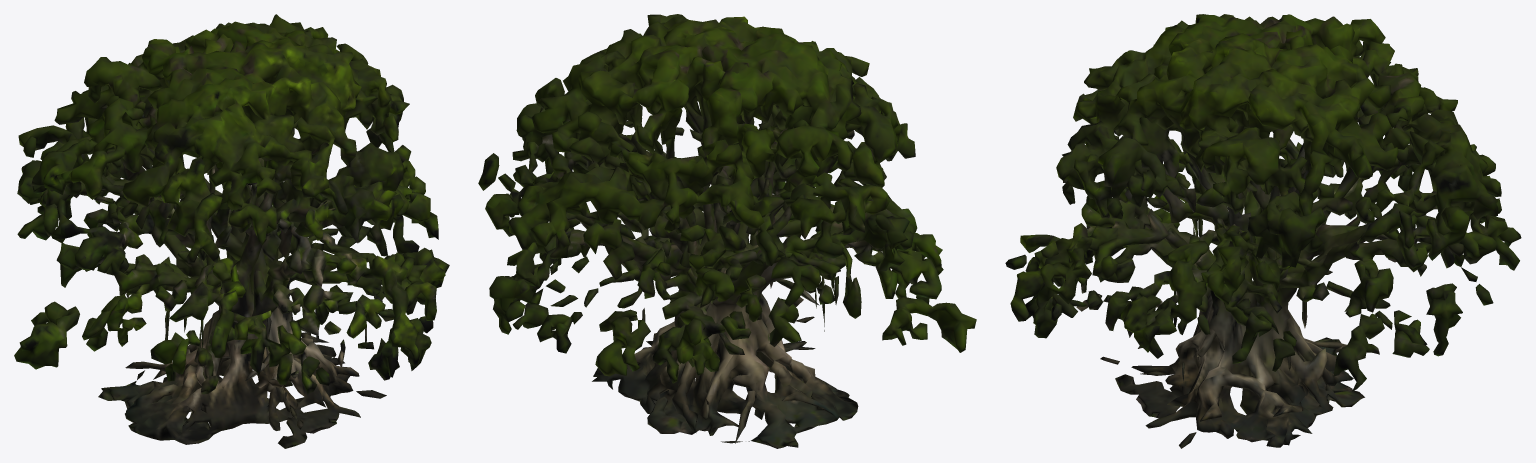
The model's file is AI_MangroveTree.fbx.
3 renders of one model, left to right at view 1: azimuth 30°, elevation 25°; view 2: azimuth 150°, elevation 25°; view 3: azimuth 270°, elevation 25°, orthographic. The views are drawn at different scales.
Visible parts, largest first — view 1: Mesh1.0; view 2: Mesh1.0; view 3: Mesh1.0.
Boxes of the visible parts, <box> form: Mesh1.0: <box>14,14,449,448</box>; Mesh1.0: <box>478,14,976,448</box>; Mesh1.0: <box>1005,14,1521,448</box>.
Size of the model in its own units: 189 by 154 by 196.
1 material, 1 textured.
